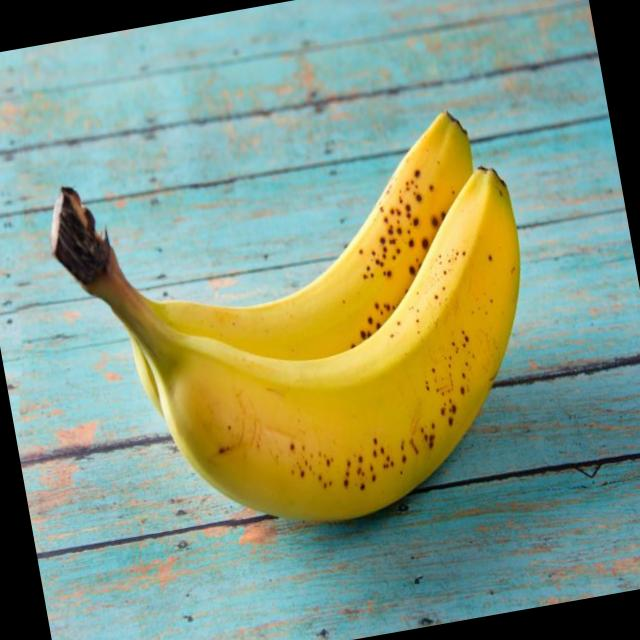banana: (132, 164, 574, 571), (126, 92, 532, 438)
